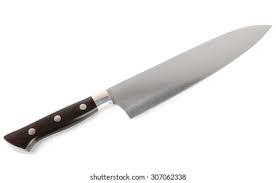Knife: (3, 23, 272, 151)
